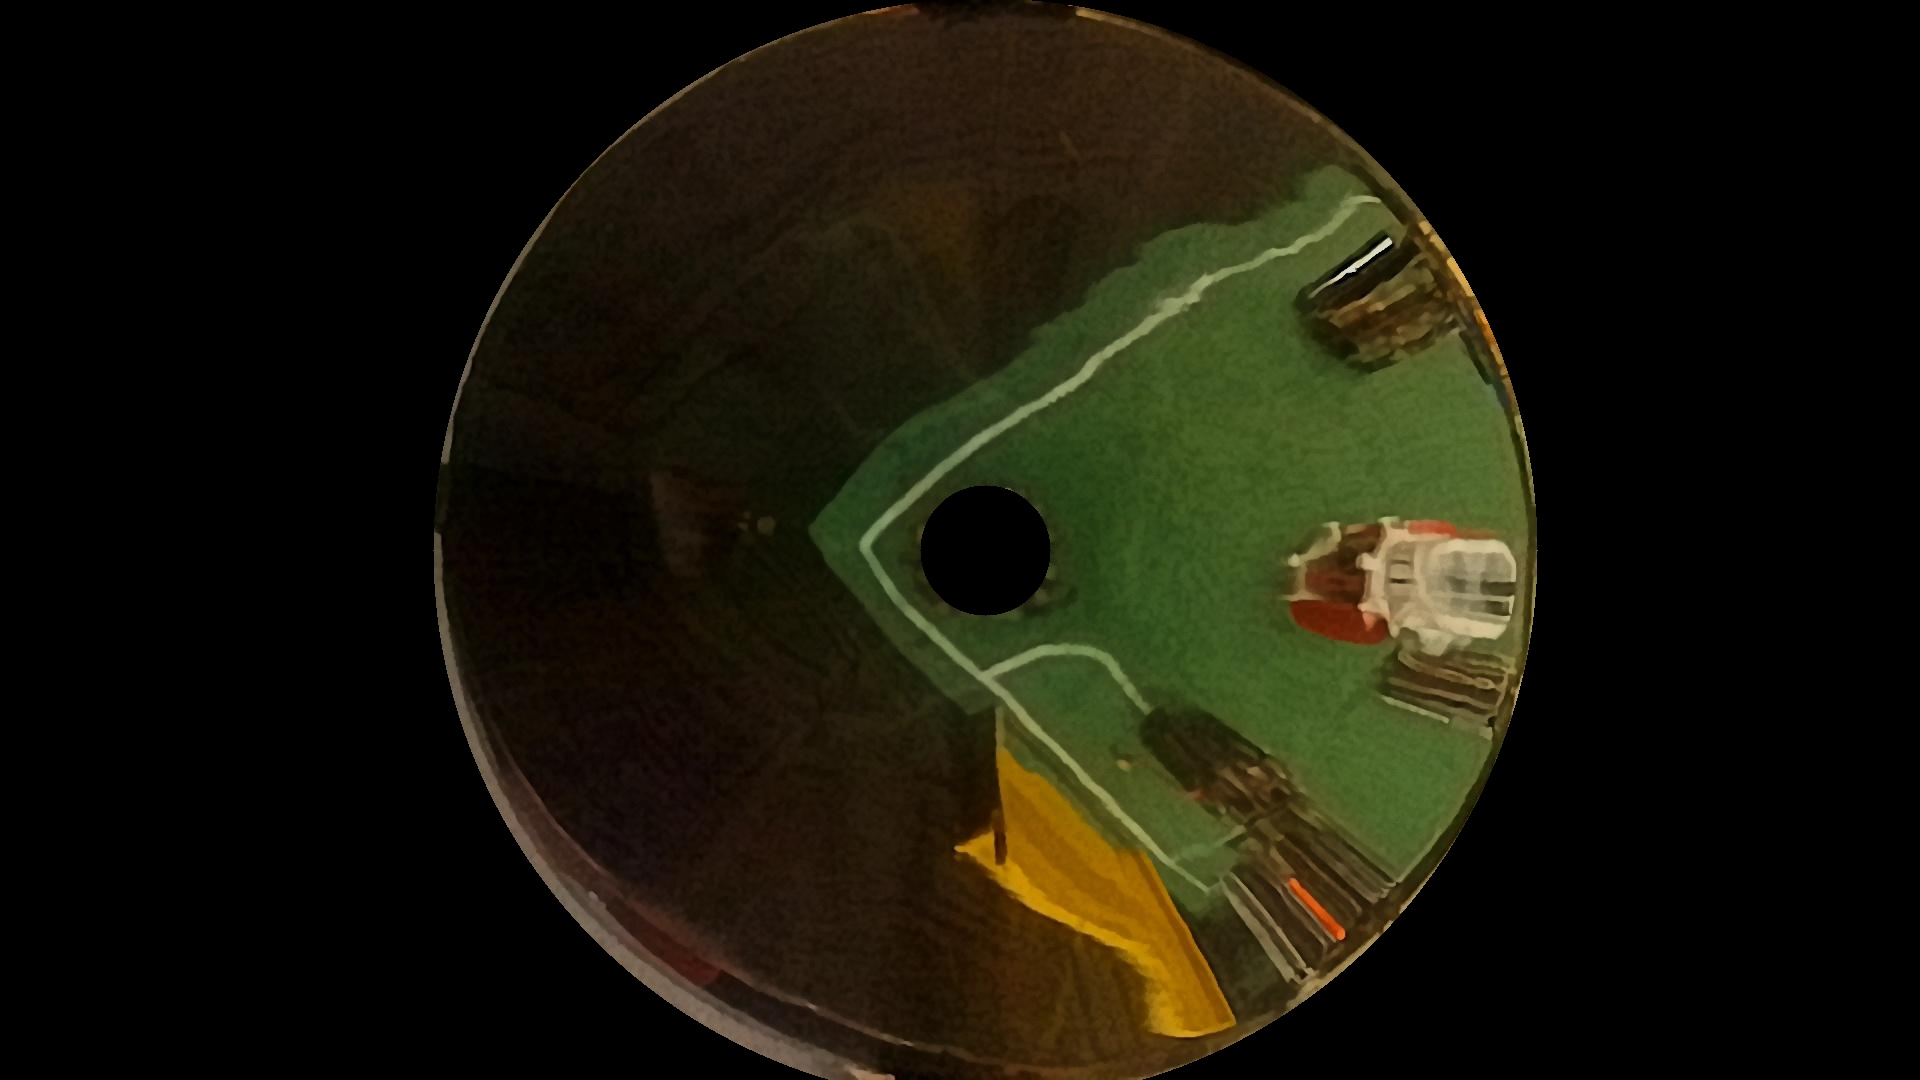robots: (1147, 704, 1400, 963), (1287, 512, 1506, 644), (1316, 244, 1464, 365), (1383, 634, 1515, 728)
yellow-goal: (963, 719, 1241, 1039)
